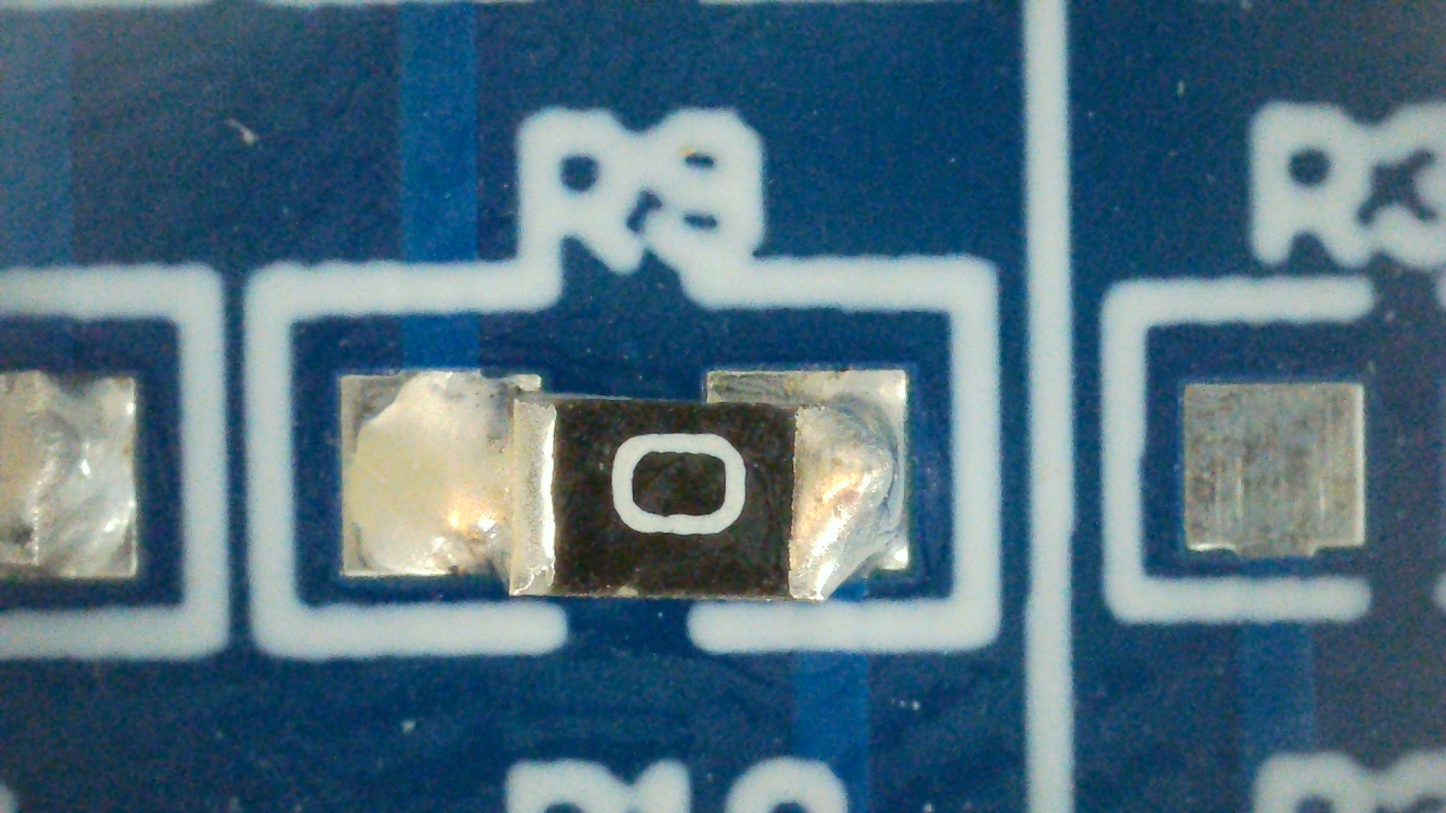NG: (342, 372, 908, 600)
